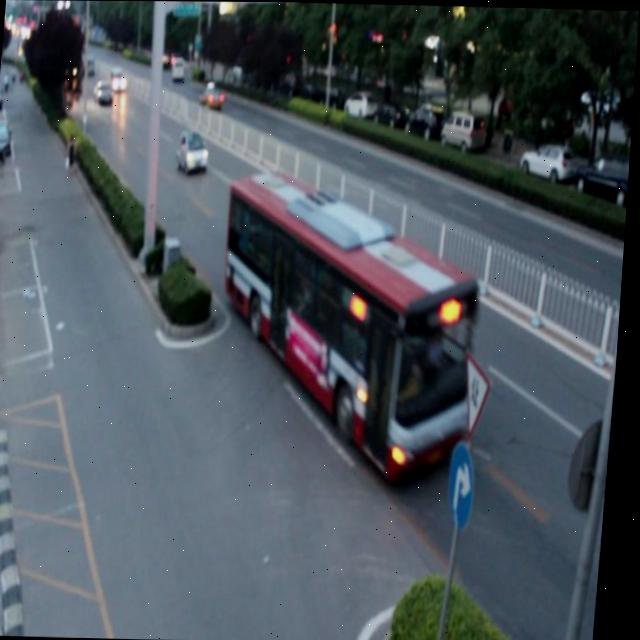car: (176, 128, 212, 173), (198, 80, 224, 107)
van: (212, 167, 490, 480)
